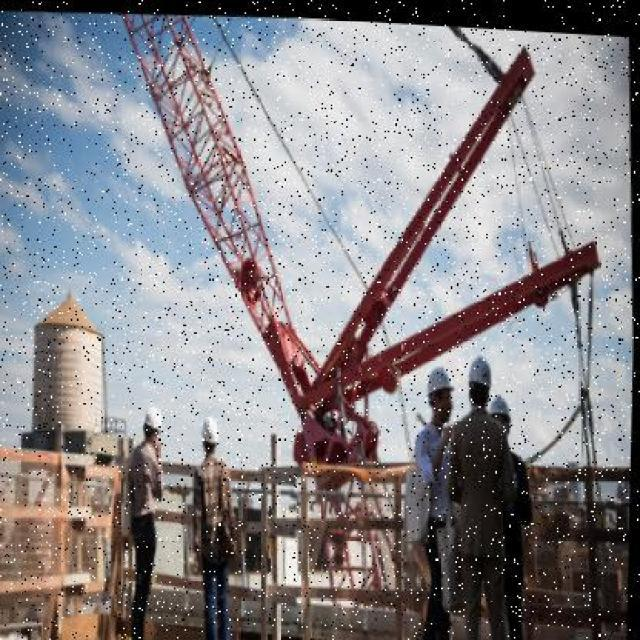helmet: (421, 351, 461, 401), (468, 346, 501, 388), (140, 397, 170, 439), (200, 408, 224, 448)
